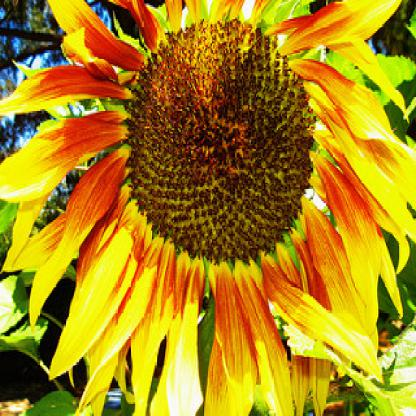SUN FLOWER: (14, 18, 395, 372)
